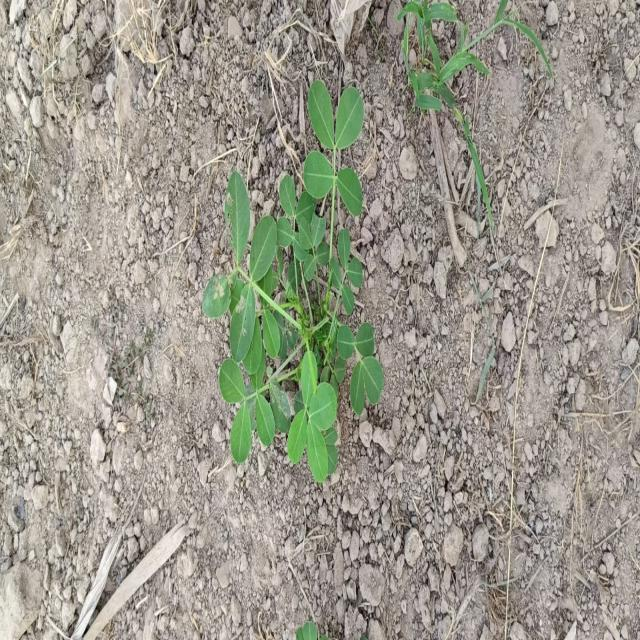plant: (202, 81, 384, 481)
